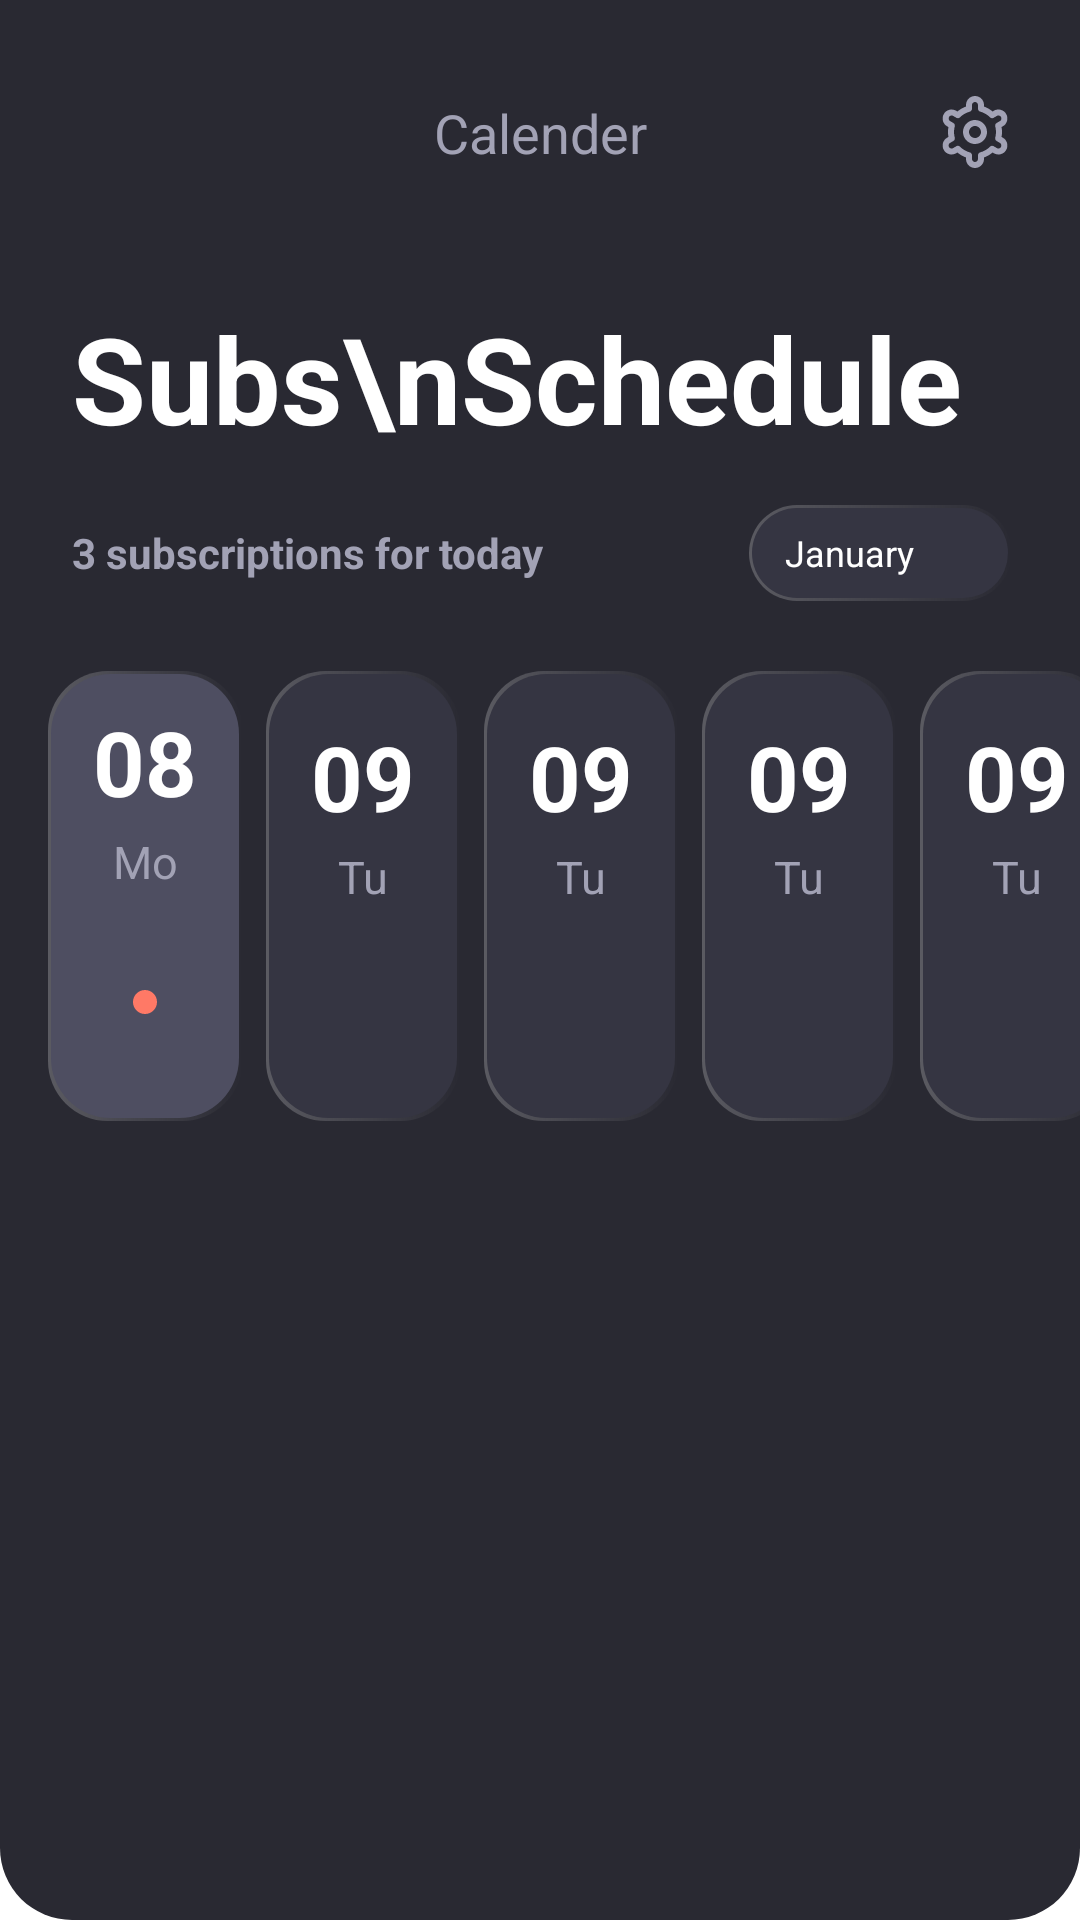

Icons on this 1080x1920 Android screen, each with the point to tap as (x,y):
settings: (975,132)
